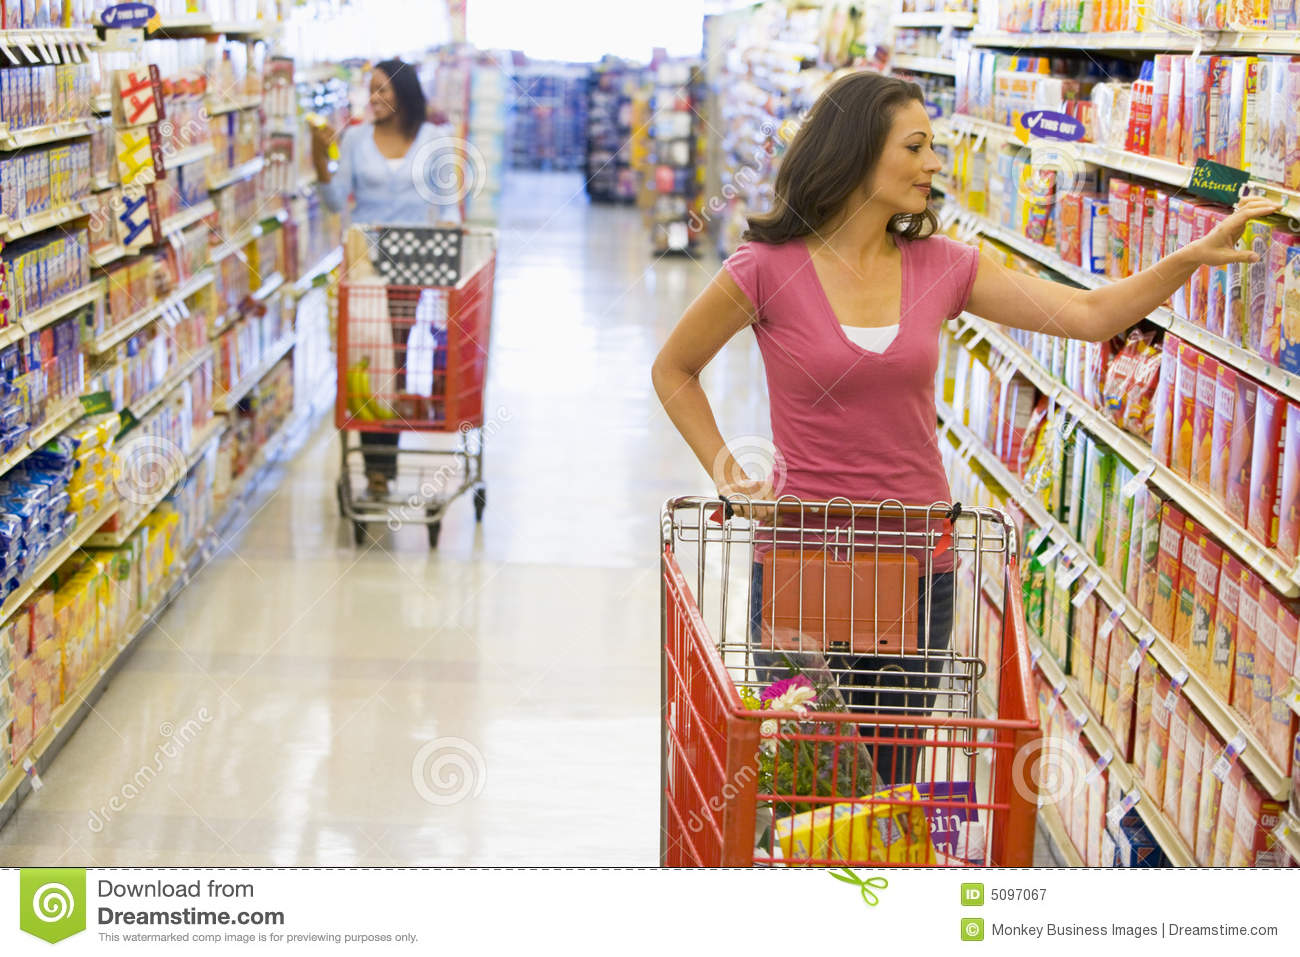with_basket: (653, 497, 1047, 871)
without_mask: (826, 74, 947, 221)
